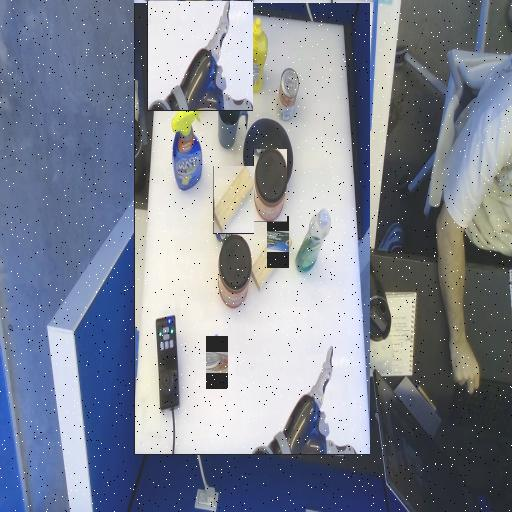bowl: (212, 275, 261, 323)
cleanser: (174, 185, 210, 249)
coffee_can: (254, 149, 286, 221)
jaco: (148, 1, 253, 111)
meat_can: (267, 231, 289, 252)
mug: (257, 322, 286, 351)
mustard_bottle: (238, 365, 264, 437)
rubik: (299, 353, 321, 387)
soup_can: (206, 352, 227, 372)
windex: (303, 267, 333, 356)
wooden_block: (213, 166, 253, 232)
workspace: (134, 3, 370, 455)
